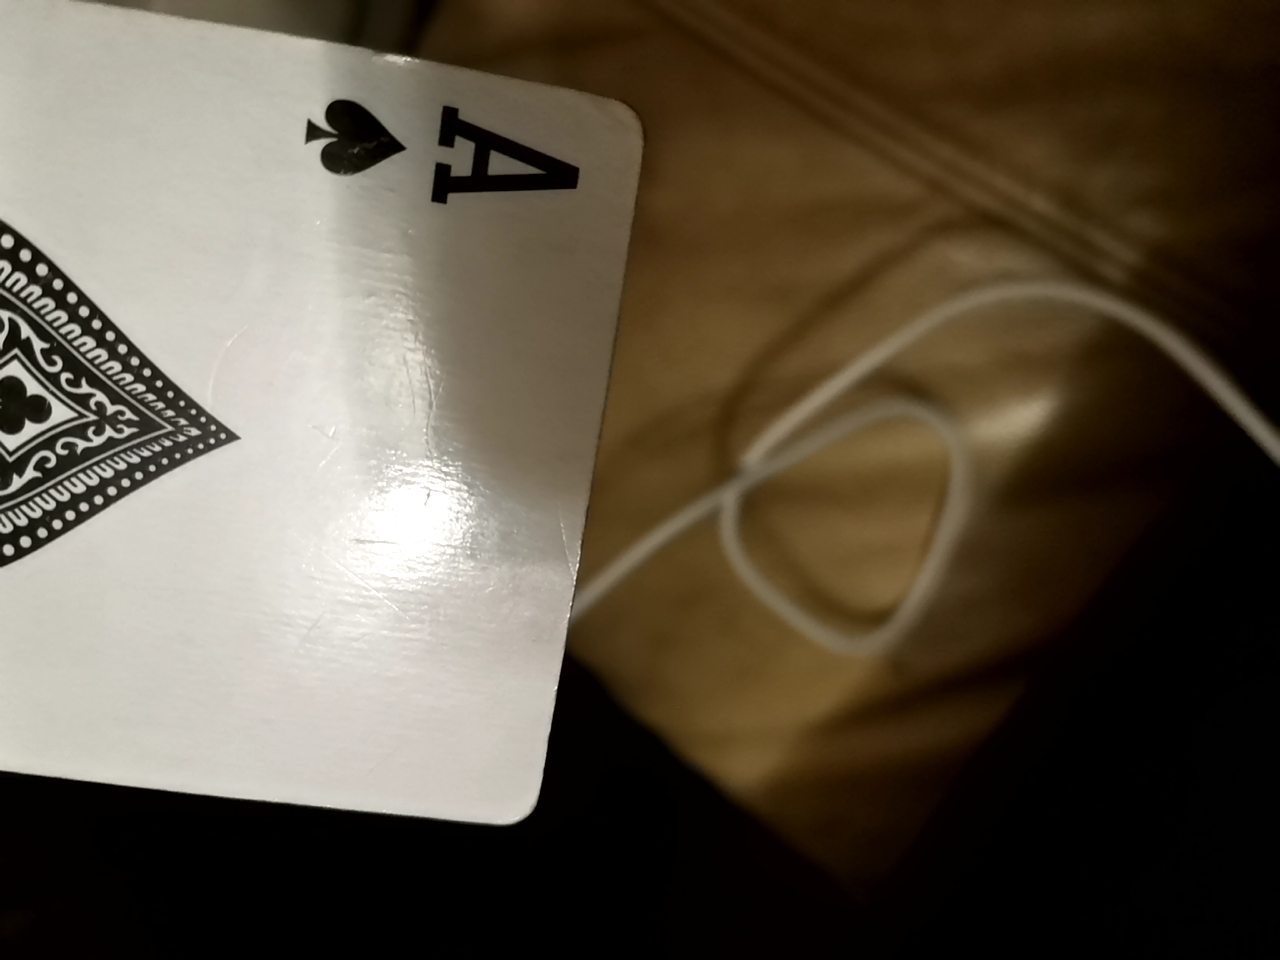ht a: (10, 2, 612, 844)
